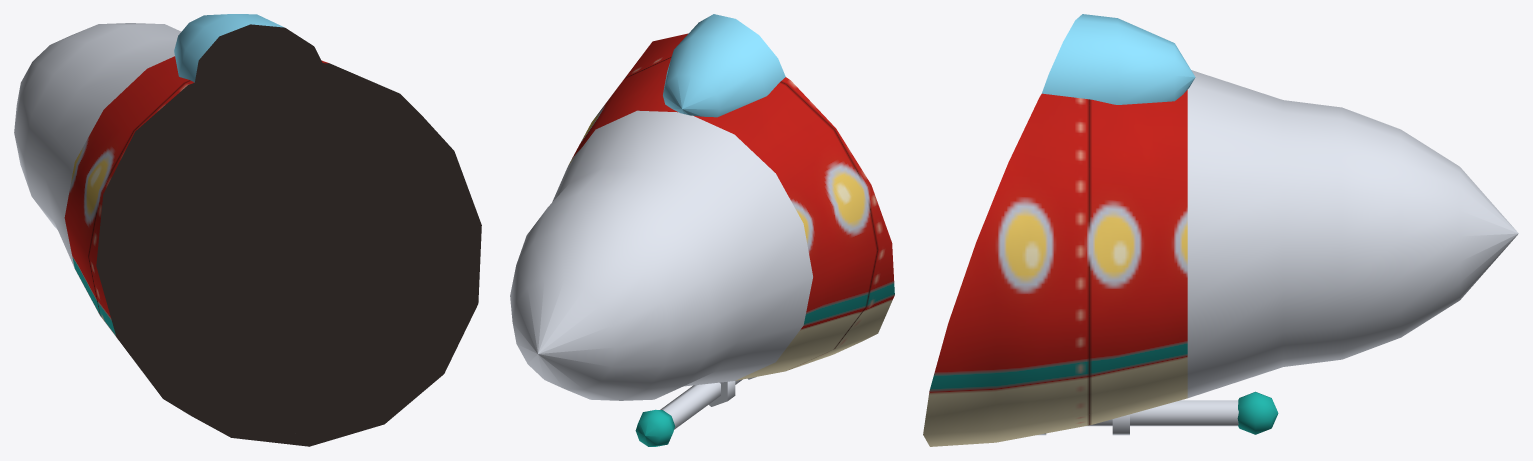
File: meteor_debris1.obj
The picture shows the model from 3 angles, left to right: view 1: azimuth 30°, elevation 25°; view 2: azimuth 150°, elevation 25°; view 3: azimuth 270°, elevation 25°; orthographic projection. The views are drawn at different scales.
Visible parts, largest first — view 1: hull, canopy, gun; view 2: hull, canopy, gun, gun_tip; view 3: hull, canopy, gun, gun_tip.
Part boxes in pixels (left/top/right/bottom): hull: left=14, top=23, right=481, bottom=446; canopy: left=174, top=14, right=328, bottom=146; gun: left=295, top=420, right=320, bottom=446; hull: left=510, top=33, right=894, bottom=400; canopy: left=663, top=14, right=785, bottom=117; gun: left=660, top=379, right=742, bottom=429; gun_tip: left=635, top=409, right=675, bottom=446; hull: left=923, top=70, right=1518, bottom=446; canopy: left=1042, top=14, right=1195, bottom=104; gun: left=1085, top=400, right=1238, bottom=426; gun_tip: left=1237, top=391, right=1278, bottom=434.
Bounding box in the file's own units: 3.41 × 3.83 × 4.98.
Materials: 5 (1 with a texture image).
